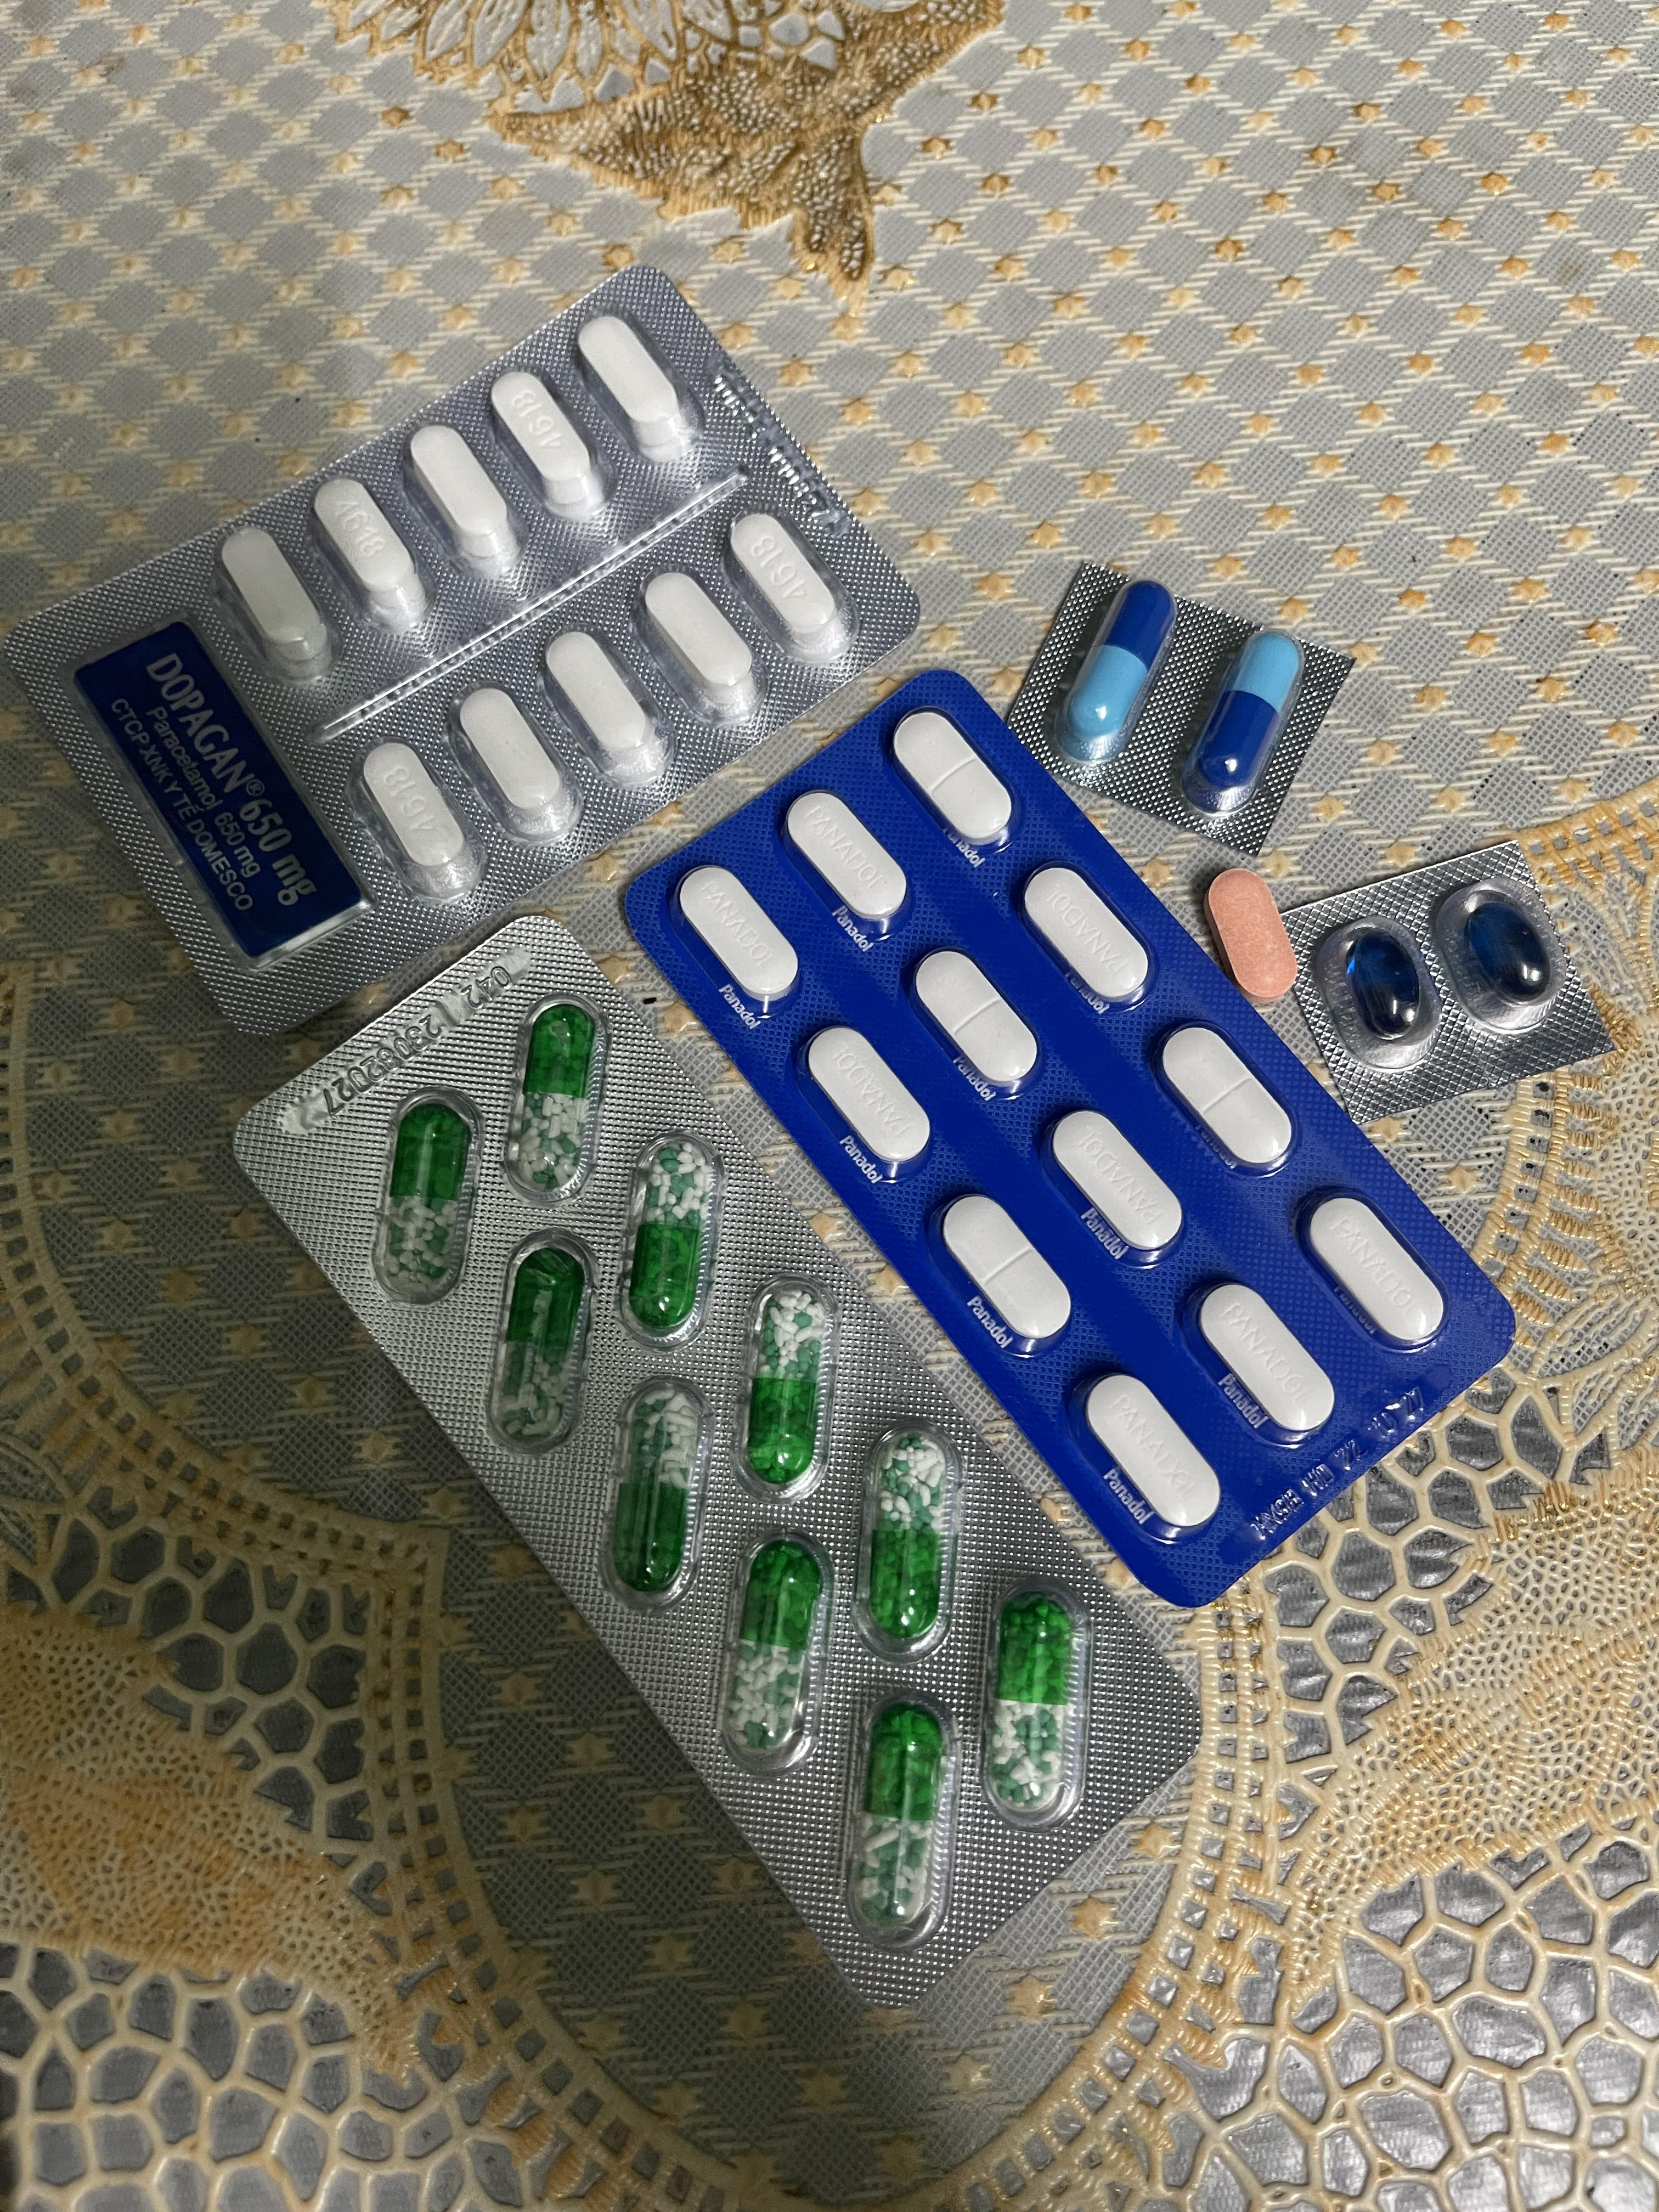Lincomyxin_500mg: (1345, 930, 1425, 1036), (1466, 904, 1551, 998)
Loratadine_10mg: (1204, 867, 1297, 1003)
Paracetamol_350mg: (1298, 1190, 1452, 1353), (1188, 1273, 1337, 1439), (1154, 1024, 1295, 1177), (1082, 1376, 1216, 1536), (1046, 1104, 1183, 1259), (936, 1191, 1070, 1350), (805, 1028, 932, 1184), (911, 949, 1040, 1099), (1019, 864, 1148, 1007), (784, 792, 908, 939), (676, 866, 796, 1012), (892, 718, 1012, 855)
Paracetamol_500mg: (453, 690, 582, 843), (357, 744, 479, 895), (544, 632, 664, 786), (310, 479, 427, 636), (220, 529, 336, 686), (645, 573, 765, 725), (727, 510, 845, 664), (410, 428, 525, 585), (582, 314, 699, 467), (491, 373, 608, 524)
Paracetamol_650mg: (838, 1688, 951, 1951), (594, 1378, 713, 1611), (714, 1531, 826, 1768), (484, 1233, 598, 1453), (854, 1437, 957, 1651), (613, 1139, 721, 1343), (371, 1096, 481, 1294), (988, 1601, 1075, 1808), (511, 1008, 596, 1190), (748, 1294, 826, 1479)
pill: (1185, 632, 1304, 817), (1063, 583, 1175, 761)
